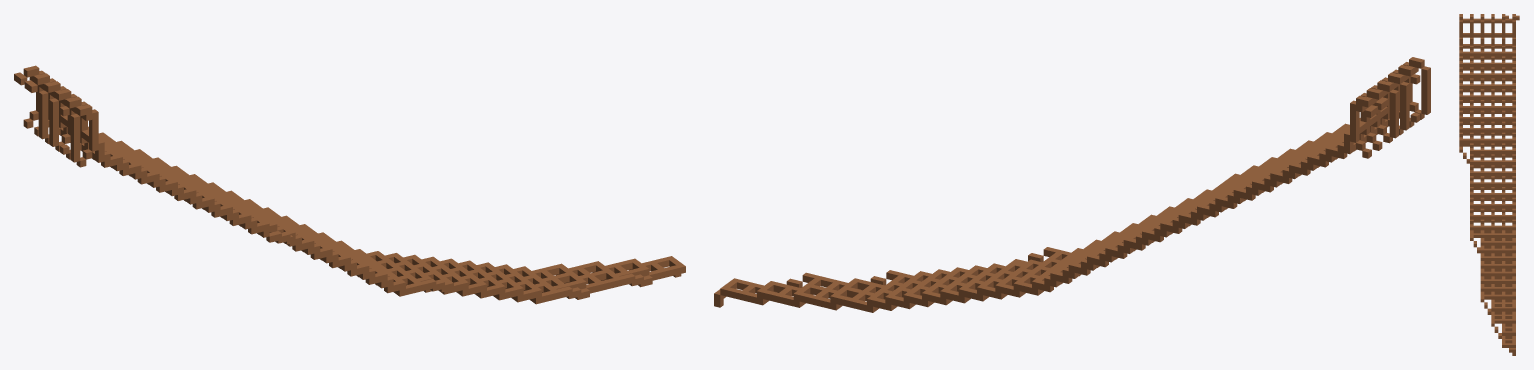
Rendered from ship-0.obj.
The picture shows the model from 3 angles, left to right: view 1: azimuth 30°, elevation 25°; view 2: azimuth 150°, elevation 25°; view 3: azimuth 270°, elevation 25°; orthographic projection. The views are drawn at different scales.
Bounding box in the file's own units: 10.8 × 5.7 × 1.7.
Materials: 1 (1 with a texture image).
